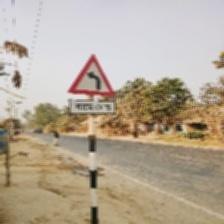Left-Turn: (66, 54, 116, 115)
